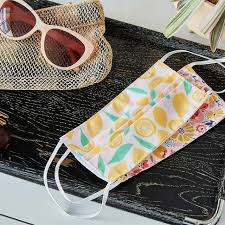cloth_mask: (45, 54, 209, 217)
